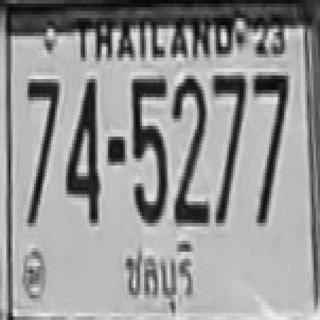N02: (173, 76, 207, 223)
N04: (64, 76, 98, 219)
N05: (129, 76, 165, 223)
N07: (252, 72, 286, 223), (211, 72, 245, 223), (25, 76, 57, 223)
P13: (118, 239, 199, 318)
